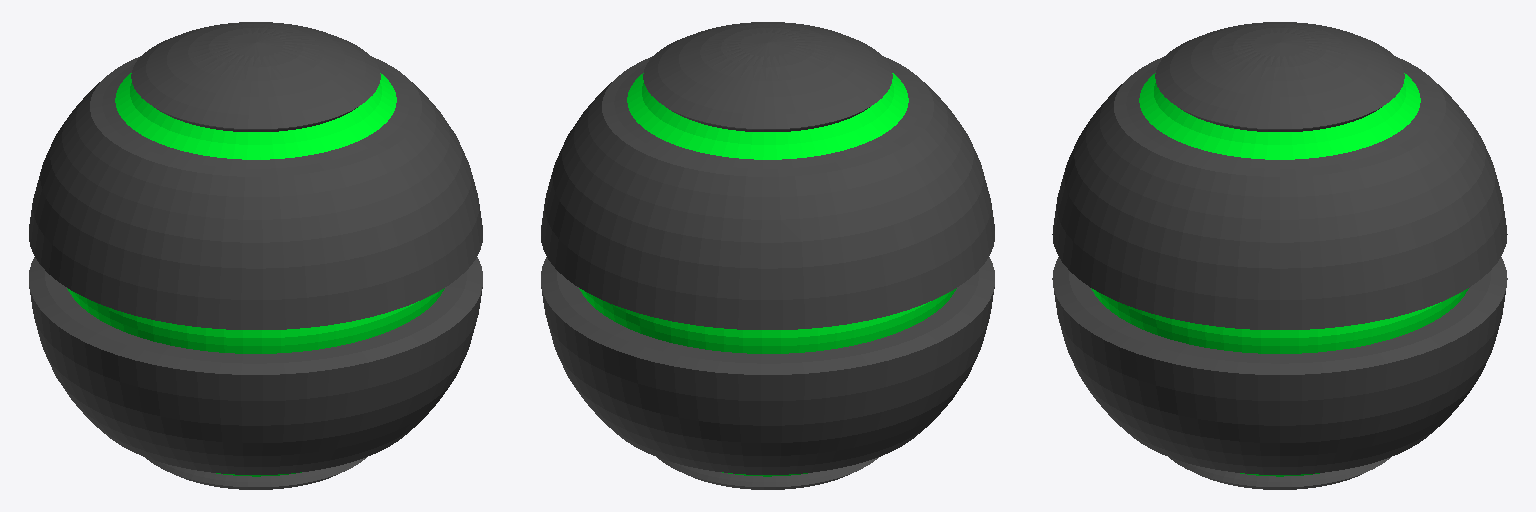
File: bomb.obj
3 views of the same model, side by side, from view 1: azimuth 30°, elevation 25°; view 2: azimuth 150°, elevation 25°; view 3: azimuth 270°, elevation 25° (orthographic).
Visible parts, largest first — view 1: Sphere_Sphere.002; view 2: Sphere_Sphere.002; view 3: Sphere_Sphere.002.
Boxes of the visible parts, box(x1,y1,x2,y2) form: Sphere_Sphere.002: box(29, 22, 482, 489); Sphere_Sphere.002: box(541, 22, 994, 489); Sphere_Sphere.002: box(1052, 22, 1507, 489).
Size of the model in its own units: 1.93 by 2 by 1.93.